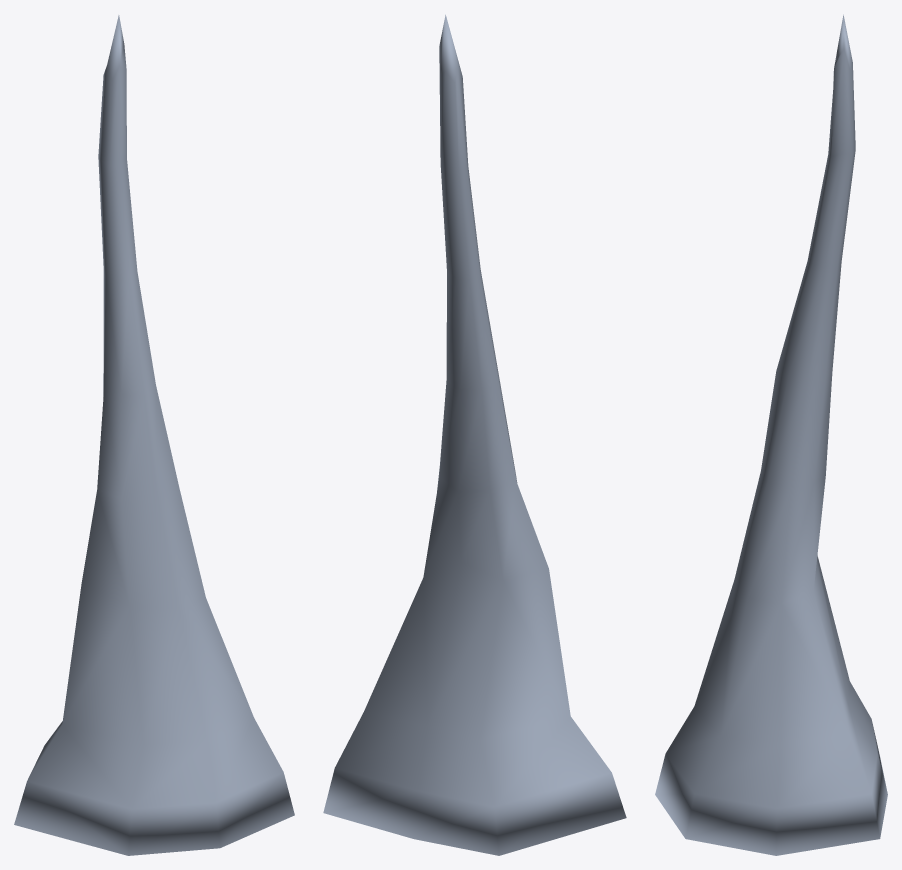
The model's file is Stalagmite_02.fbx.
3 renders of one model, left to right at view 1: azimuth 30°, elevation 25°; view 2: azimuth 150°, elevation 25°; view 3: azimuth 270°, elevation 25°, orthographic. The views are drawn at different scales.
Visible parts, largest first — view 1: Stalagmite_02; view 2: Stalagmite_02; view 3: Stalagmite_02.
Part boxes in pixels (x1,y1,x2,y2): Stalagmite_02: (14, 15, 294, 855); Stalagmite_02: (323, 14, 626, 855); Stalagmite_02: (655, 14, 887, 855).
Bounding box in the file's own units: 126 × 383 × 102.
